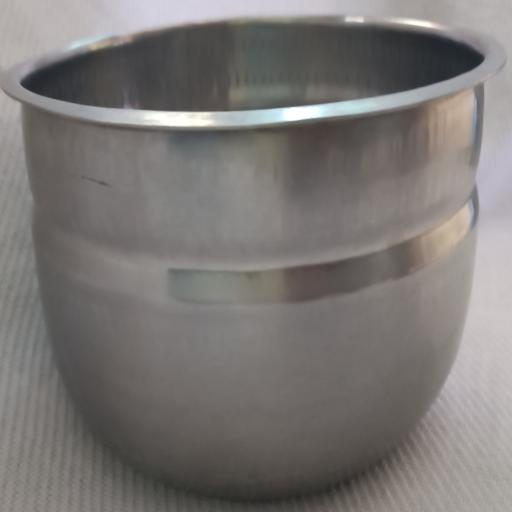vessel: (2, 17, 505, 498)
